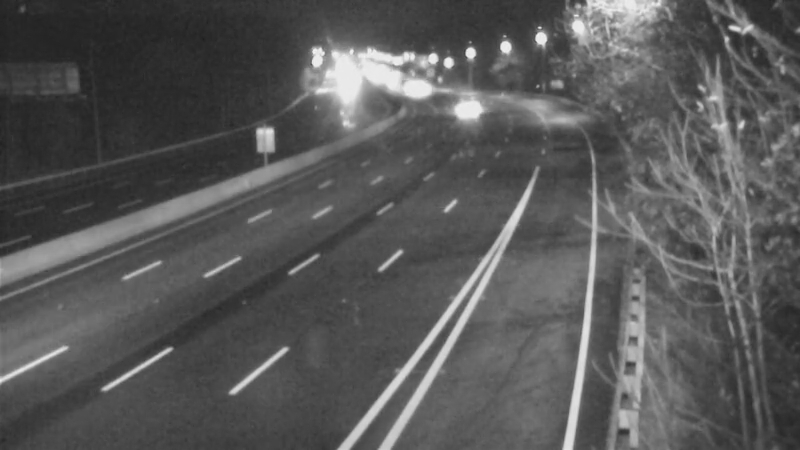vehicle: (439, 83, 489, 133)
